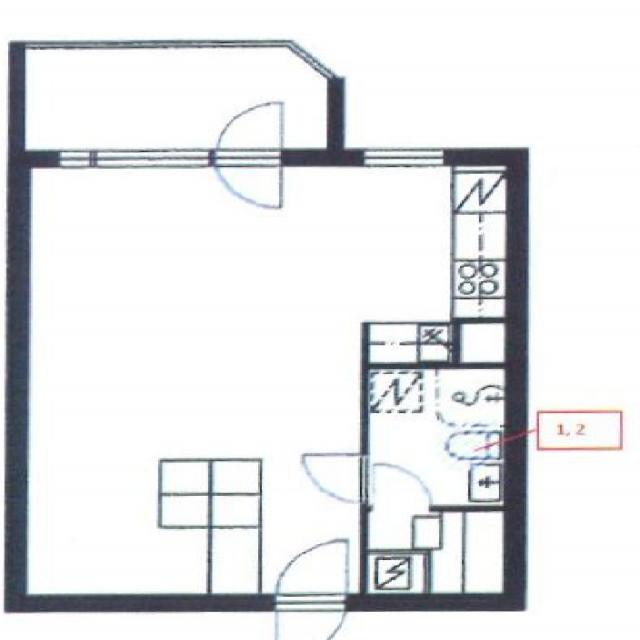door: (276, 539, 346, 611), (217, 150, 281, 218), (217, 100, 281, 167), (276, 594, 346, 640), (301, 455, 367, 502), (373, 461, 430, 512)
